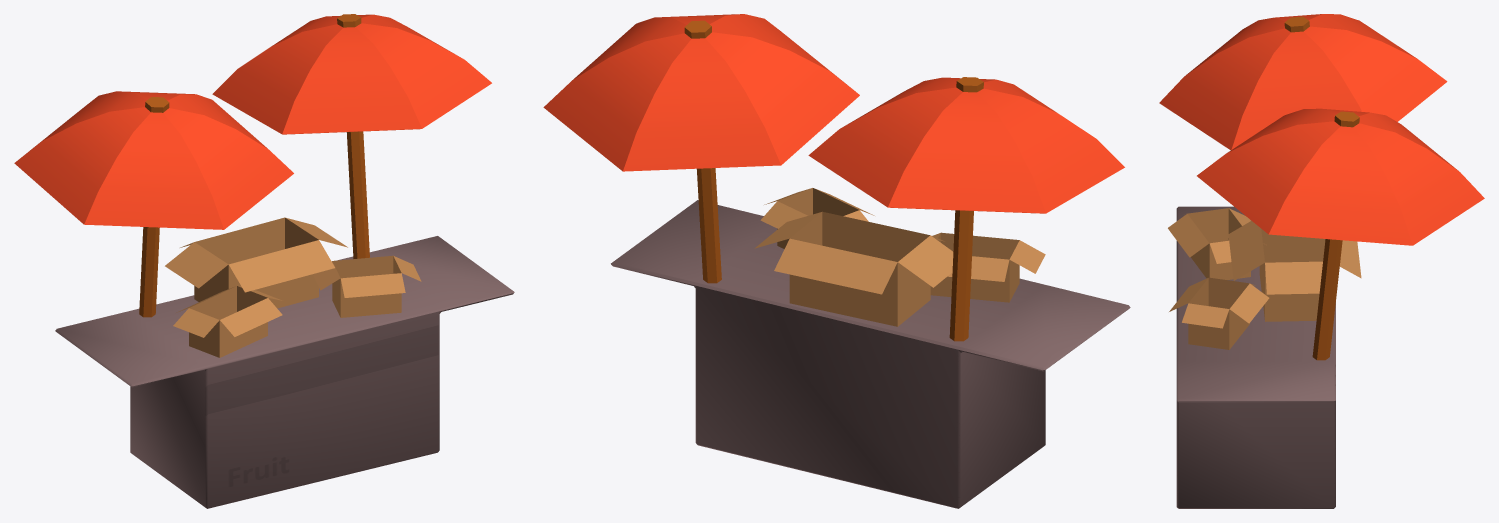
File: FruitStand.fbx
3 renders of one model, left to right at view 1: azimuth 30°, elevation 25°; view 2: azimuth 150°, elevation 25°; view 3: azimuth 270°, elevation 25°, orthographic. The views are drawn at different scales.
Visible parts, largest first — view 1: Fruit Stand; view 2: Fruit Stand; view 3: Fruit Stand.
Part boxes in pixels (bbox=[...]): Fruit Stand: bbox=[14, 14, 514, 508]; Fruit Stand: bbox=[543, 14, 1130, 508]; Fruit Stand: bbox=[1159, 14, 1484, 508].
Bounding box in the file's own units: 638 × 540 × 409.
Materials: 1 (1 with a texture image).
